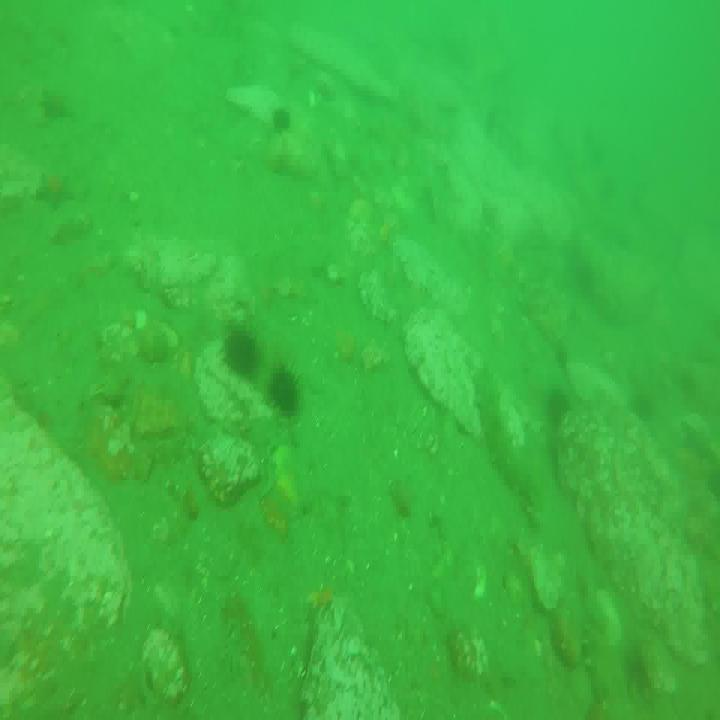echinus: (225, 320, 258, 382), (266, 358, 296, 411), (634, 389, 662, 423), (549, 386, 572, 420), (272, 105, 290, 136)
holothurian: (470, 354, 524, 486)
starfish: (38, 169, 73, 207), (41, 84, 70, 118)
